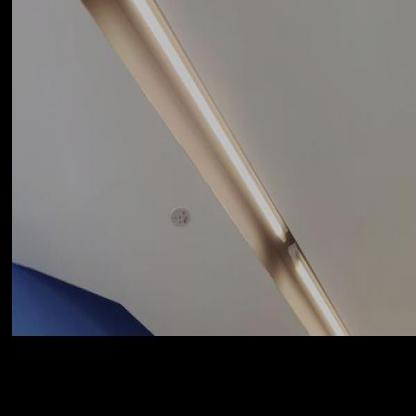light_on: (106, 0, 290, 244), (288, 242, 354, 335)
